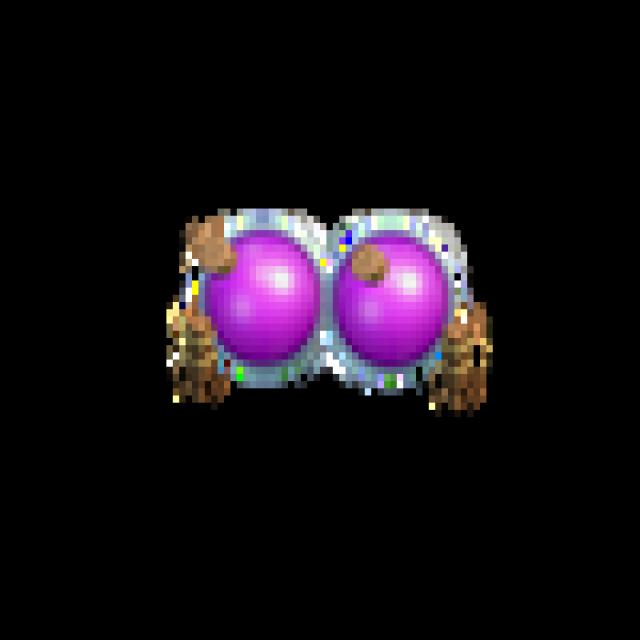elixir_storage: (163, 210, 490, 419)
